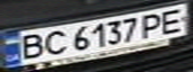1: (87, 20, 109, 48)
3: (106, 18, 127, 46)
6: (69, 24, 93, 52)
7: (118, 15, 145, 43)
B: (12, 32, 48, 61)
C: (36, 28, 72, 56)
E: (154, 6, 190, 35)
P: (136, 11, 172, 39)
